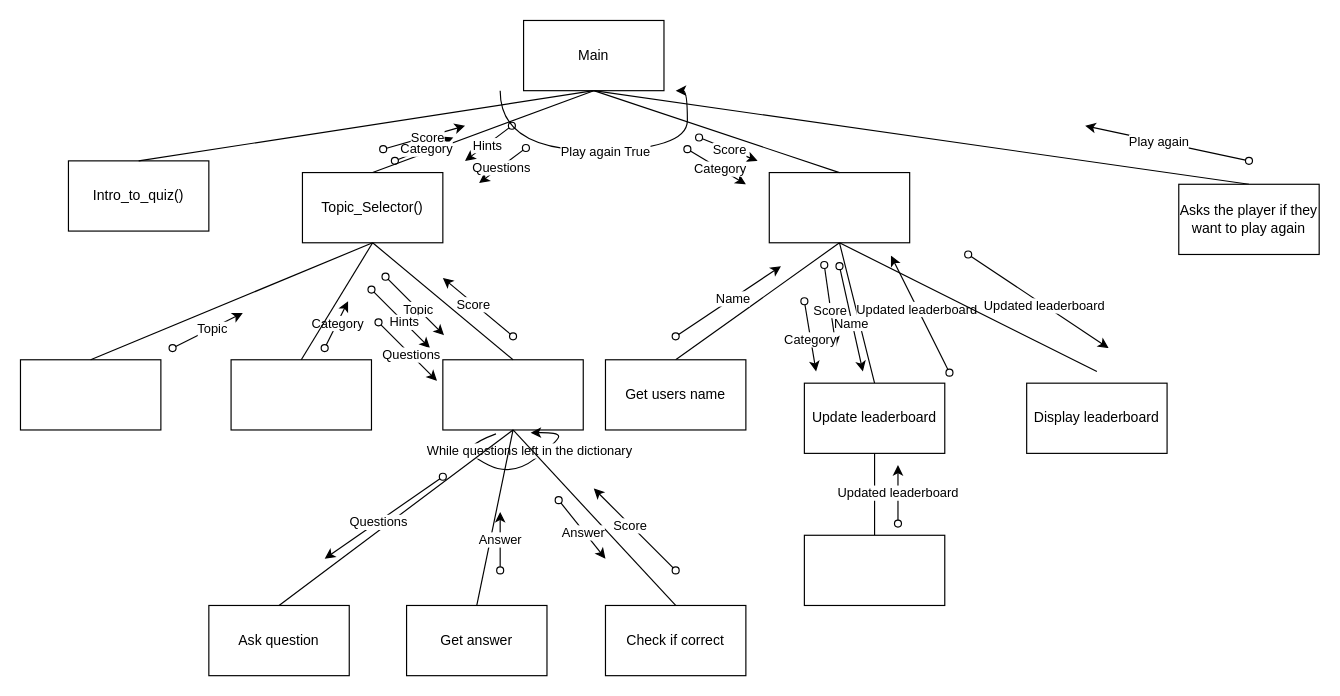
Image size: 1340x696. Some labels were removed from this diagram. The shapes that lost their labels are listed below. From the top down, each one's box as (x1, y1, x2, y2) in pixels, then its label:
(768, 171, 910, 243): Leaderboard()
(19, 359, 161, 430): Get users input to choose a Topic
(230, 359, 371, 430): Filter questions by topic and print rules for that topic
(442, 359, 583, 430): Start Quiz
(803, 534, 945, 605): Update text file to reflect new score
